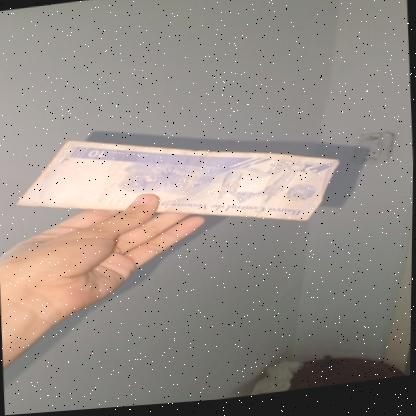ten-back-vef: (14, 111, 341, 259)
